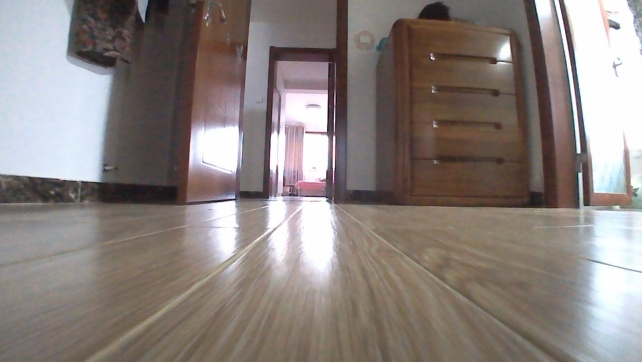cabinet: (370, 17, 533, 205), (175, 0, 253, 208)
door_anno: (521, 0, 631, 209)
